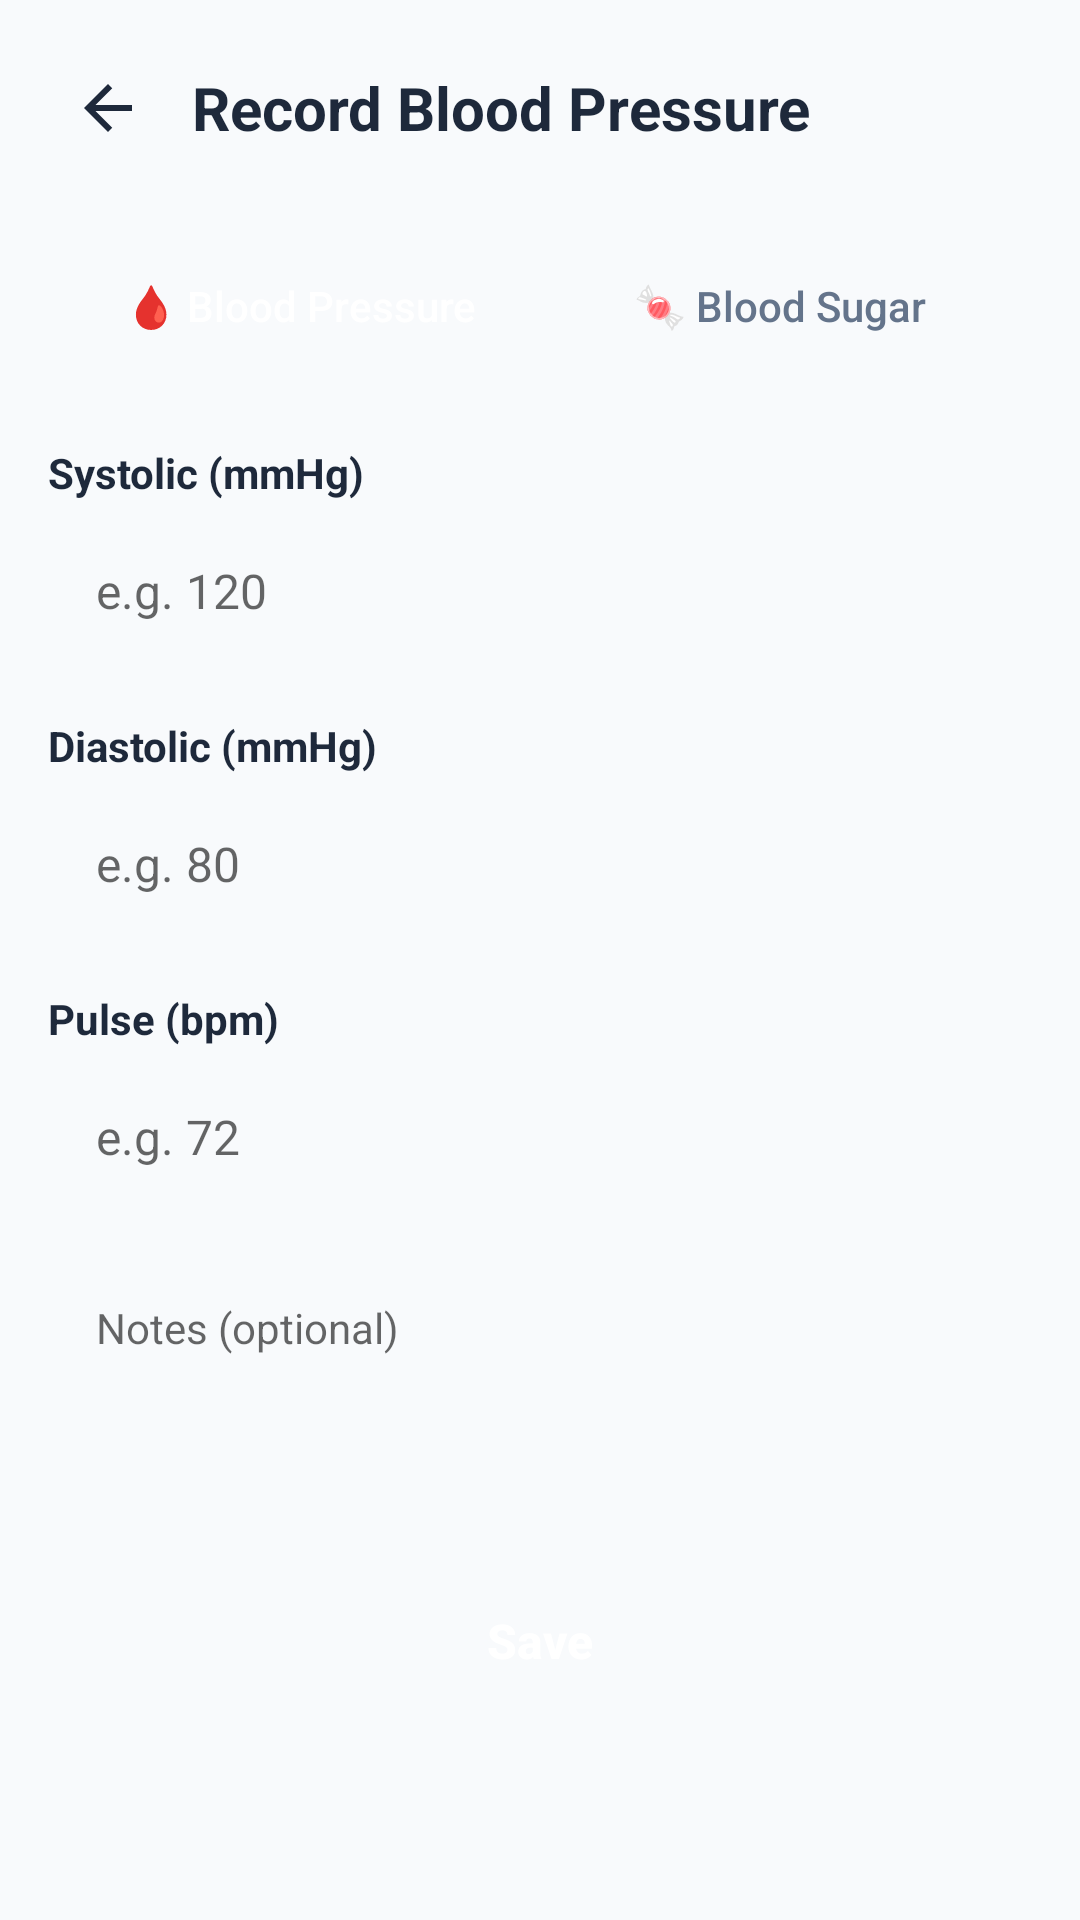

Icons on this 1080w x 1920h Android screen, each with the point to tap as [x,y]:
Back: [108,108]
